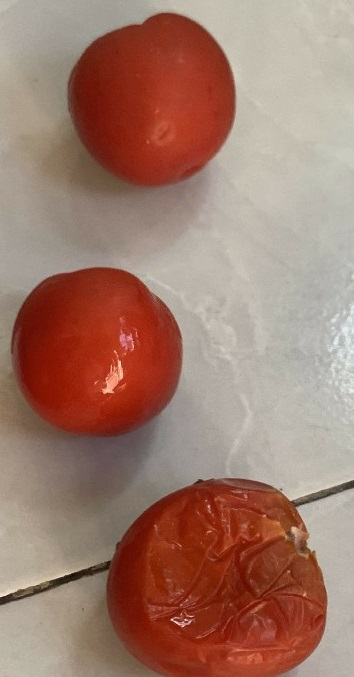NG: (97, 468, 337, 676)
OK: (58, 4, 249, 195), (5, 262, 197, 442)
